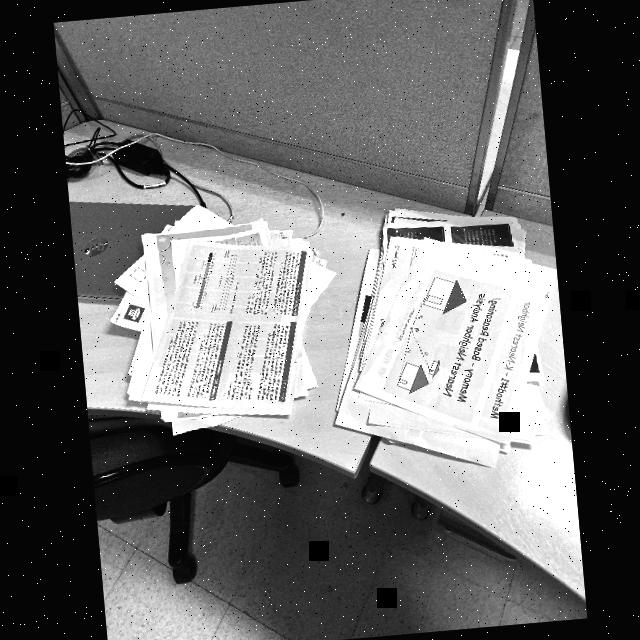reuseable_paper: (314, 186, 573, 482), (101, 196, 354, 440)
